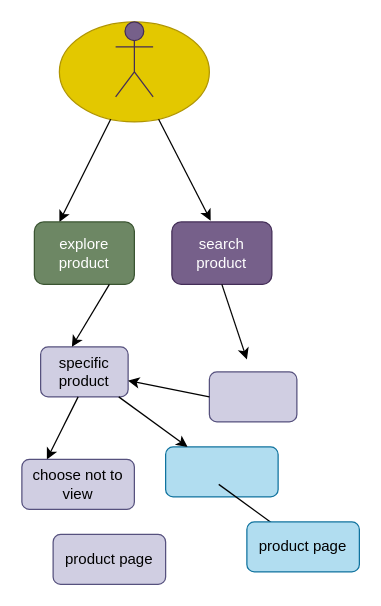
The diagram is 381 pixels wide and 606 high, and some of its shapes have lost their labels. The shapes that lost their labels are listed below. From the top down, each one's centre as x and y in pixels, then its label:
the point at 133,59: Actor
the point at 252,396: search tab
the point at 221,471: choose to view
